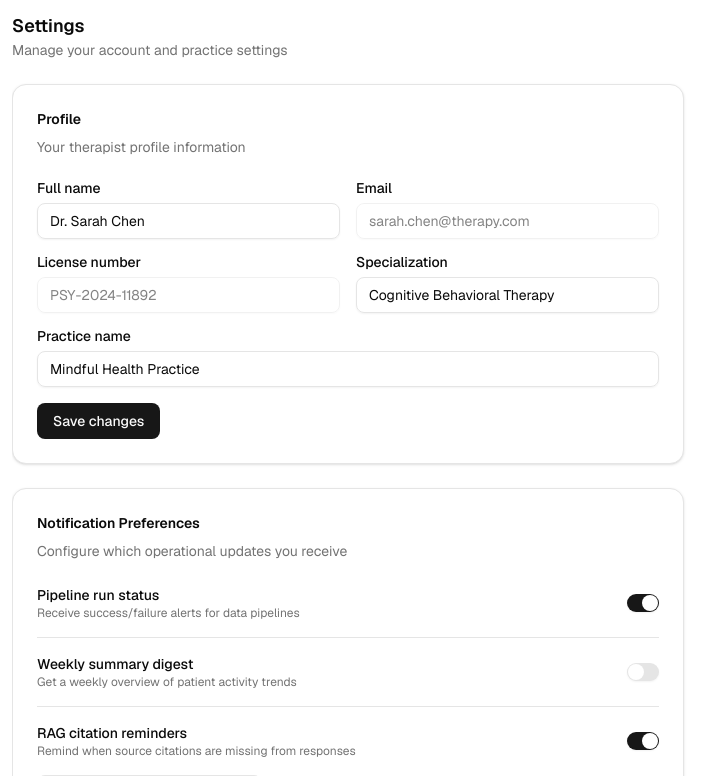
Test: Dashboard settings page › shows success message after profile save
Click the button "Save changes": (99, 421) [37, 403, 160, 439]
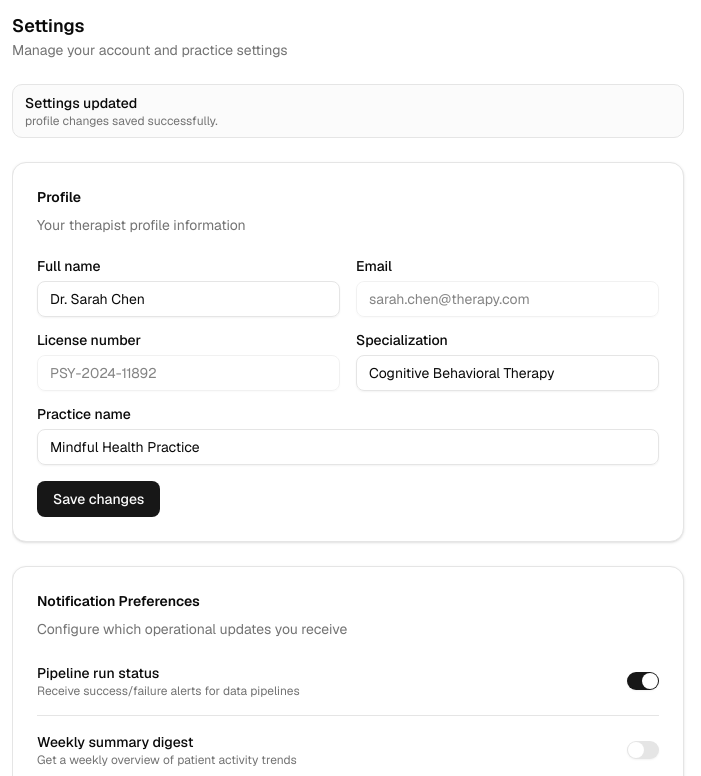
expect the text "profile changes saved successfully." is shown: met, box [25, 113, 218, 129]
